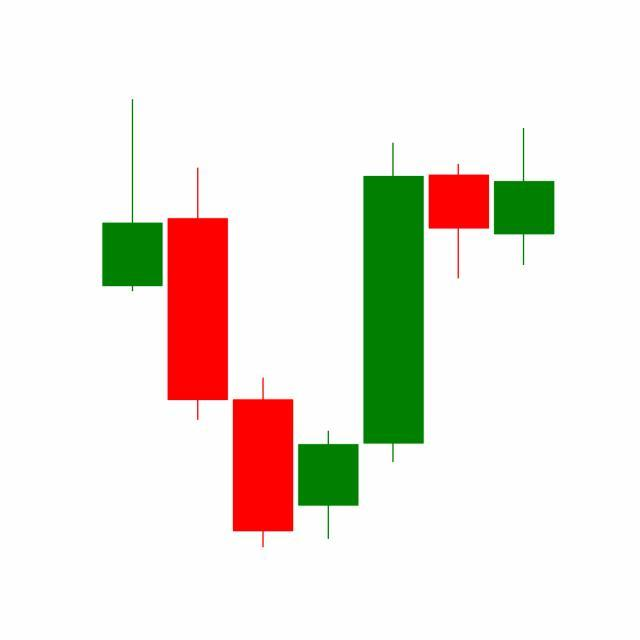Hikkake Pattern: (229, 124, 555, 549)
